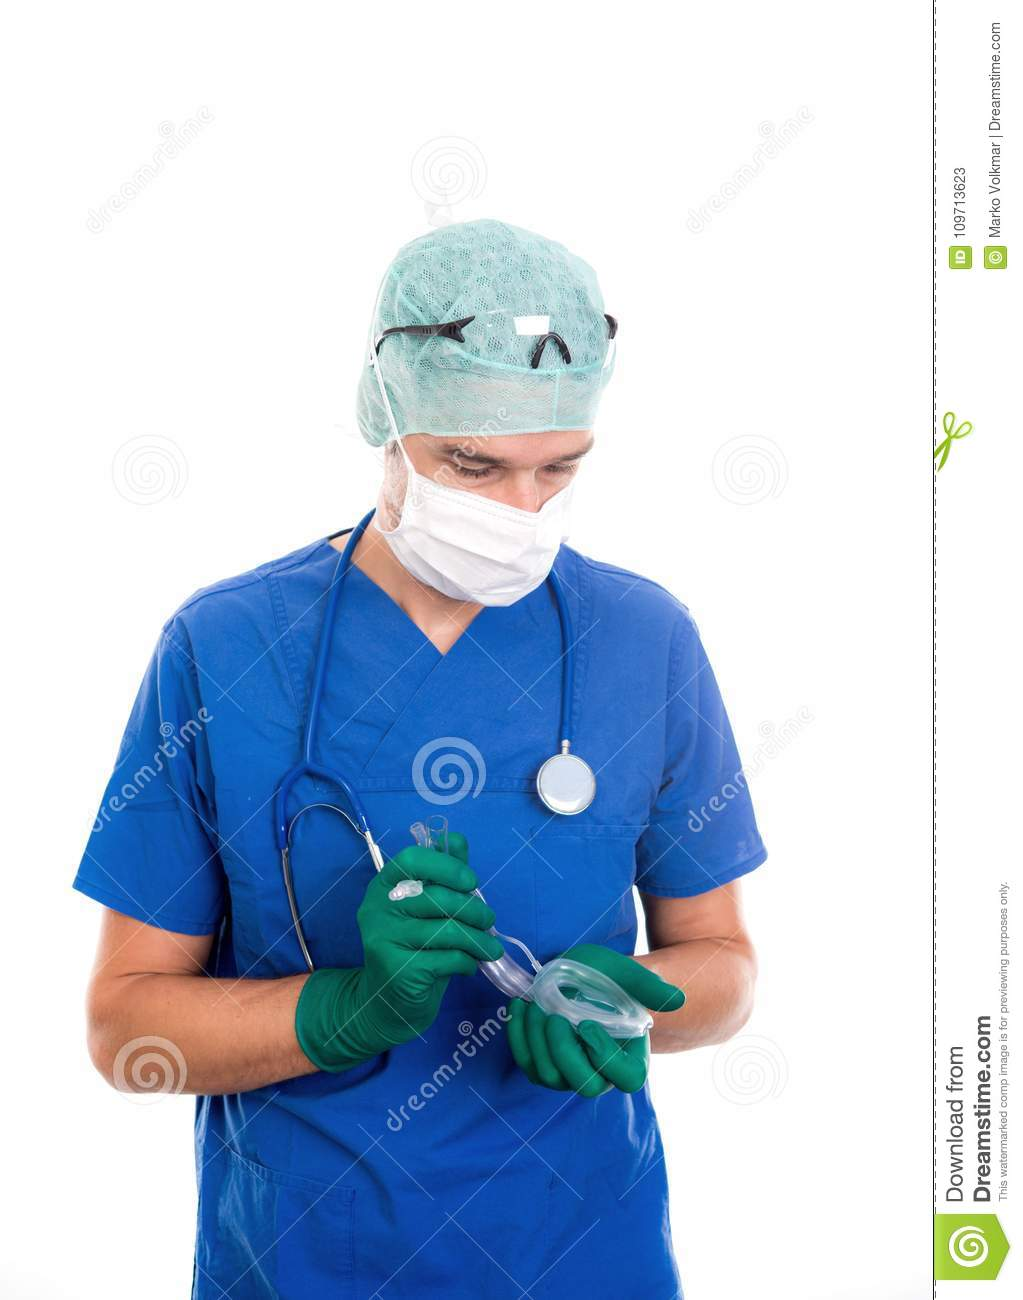mask: (405, 473, 599, 629)
